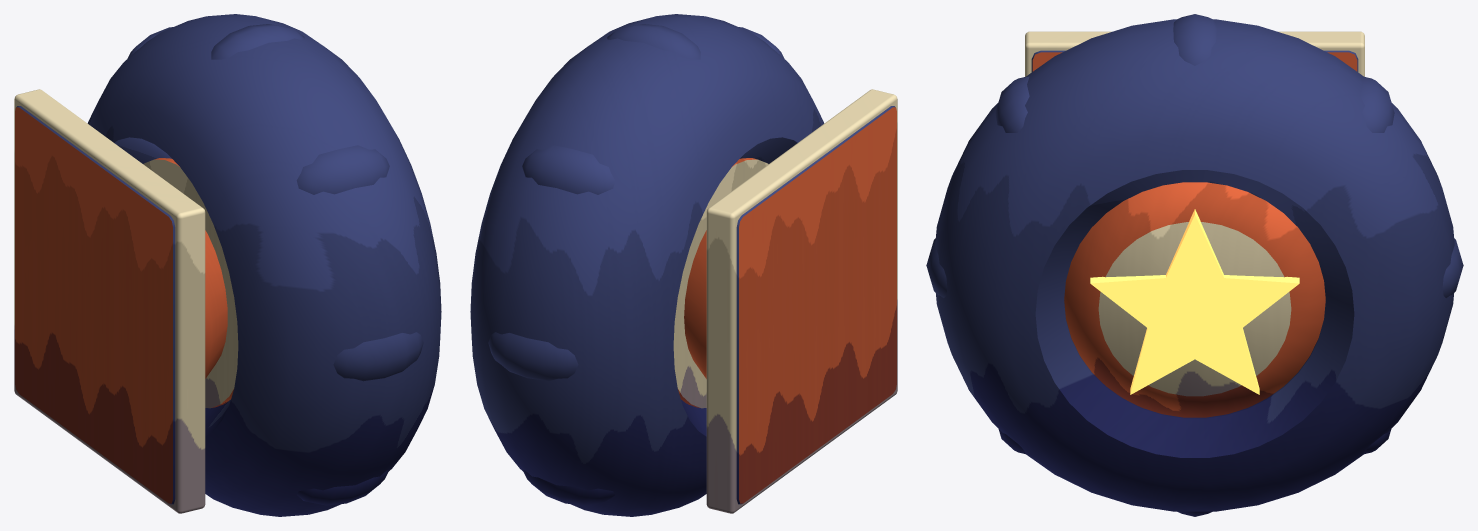
The model's file is R4M_WheelM_Side_Offroad.glb.
The picture shows the model from 3 angles, left to right: view 1: azimuth 30°, elevation 25°; view 2: azimuth 150°, elevation 25°; view 3: azimuth 270°, elevation 25°; orthographic projection. The views are drawn at different scales.
Parts seen in each view (by area): view 1: R4M_WheelM_Side_Offroad_Rotor, R4M_WheelM_Side_Offroad_Mount; view 2: R4M_WheelM_Side_Offroad_Rotor, R4M_WheelM_Side_Offroad_Mount; view 3: R4M_WheelM_Side_Offroad_Rotor, R4M_WheelM_Side_Offroad_Mount.
Part boxes in pixels (bbox=[...]): R4M_WheelM_Side_Offroad_Rotor: bbox=[87, 14, 441, 516]; R4M_WheelM_Side_Offroad_Mount: bbox=[14, 89, 227, 513]; R4M_WheelM_Side_Offroad_Rotor: bbox=[470, 14, 824, 516]; R4M_WheelM_Side_Offroad_Mount: bbox=[684, 89, 897, 513]; R4M_WheelM_Side_Offroad_Rotor: bbox=[926, 14, 1463, 516]; R4M_WheelM_Side_Offroad_Mount: bbox=[1025, 31, 1364, 76].
Bounding box in the file's own units: 0.45 × 0.78 × 0.78.
Materials: 4 (3 with a texture image).
